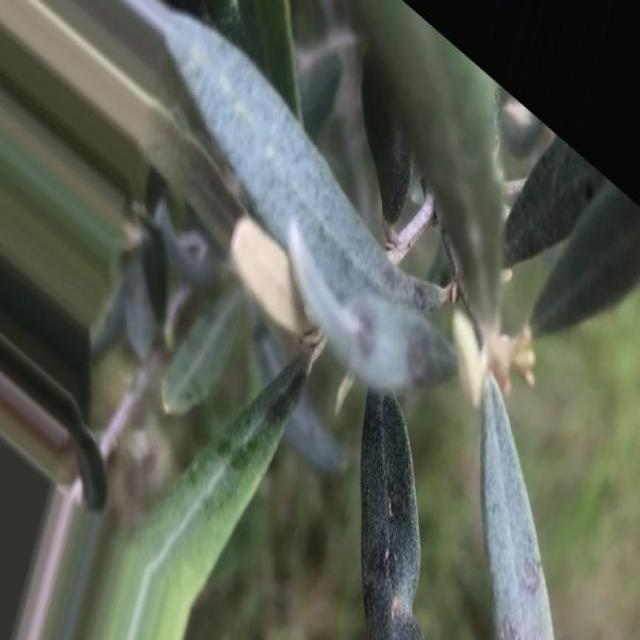Peacock Eye: (147, 350, 314, 586), (482, 377, 554, 639), (299, 267, 456, 377), (361, 404, 423, 639)
